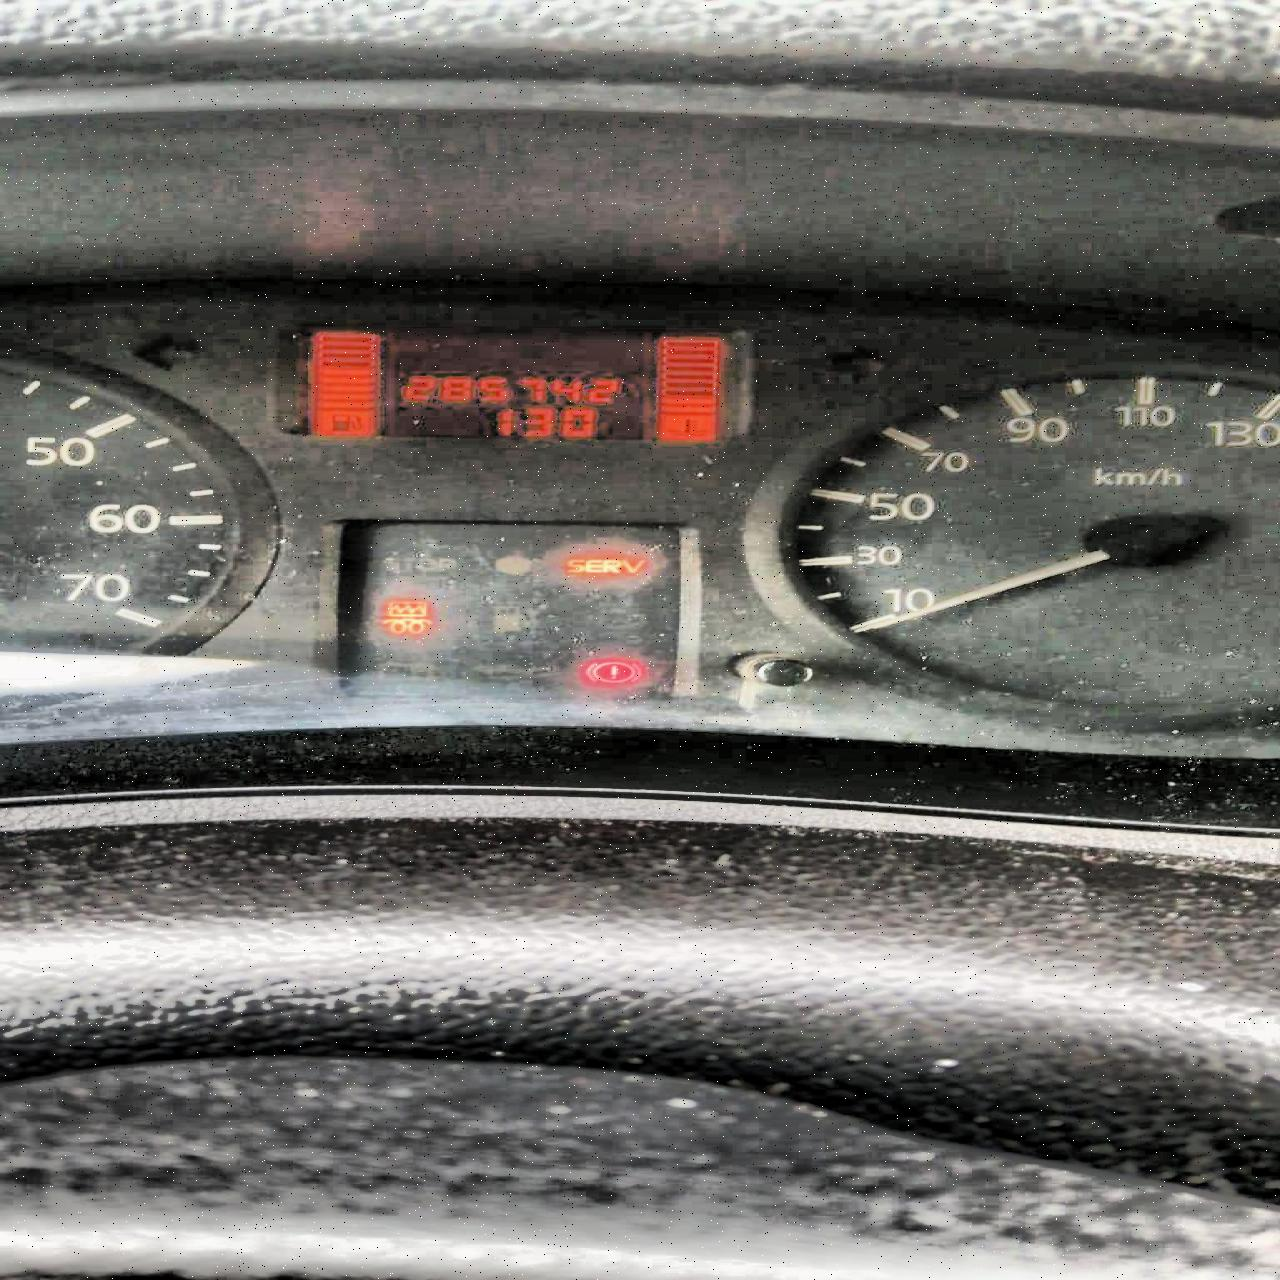0: (560, 408, 592, 436)
1: (498, 408, 511, 435)
2: (401, 377, 433, 400), (586, 380, 617, 402)
3: (523, 408, 552, 435)
4: (551, 380, 579, 402)
5: (478, 377, 506, 400)
7: (519, 379, 545, 401)
8: (440, 377, 470, 400)
odometer: (294, 325, 740, 442)
